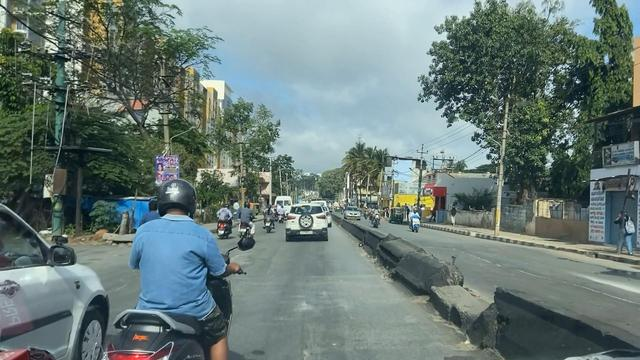LMV: (117, 179, 223, 360), (284, 205, 326, 245), (238, 203, 254, 239), (216, 204, 229, 239)
UnsurfacedRoad: (292, 289, 354, 360)
